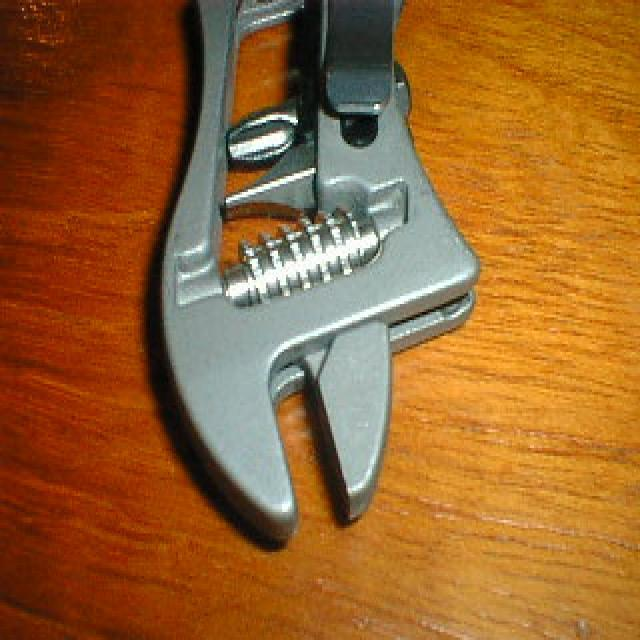wrench: (150, 0, 454, 552)
